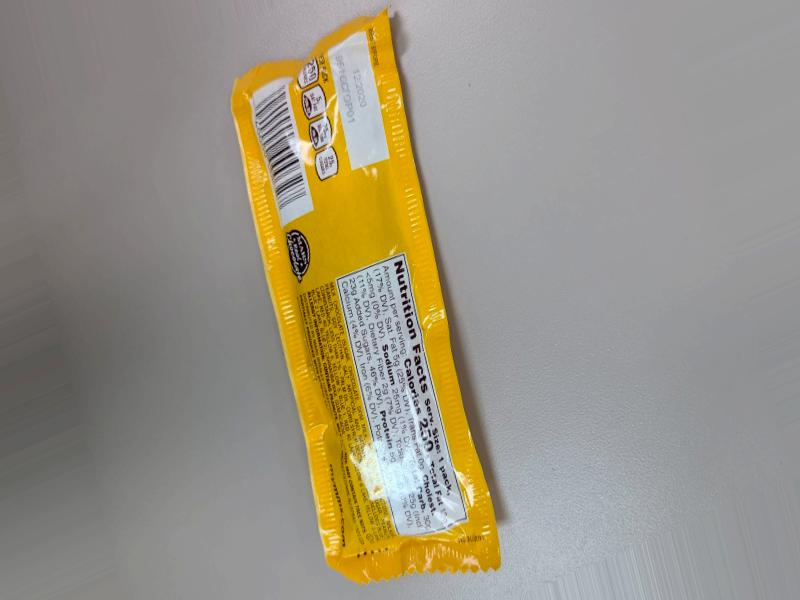m&m: (171, 56, 460, 548)
